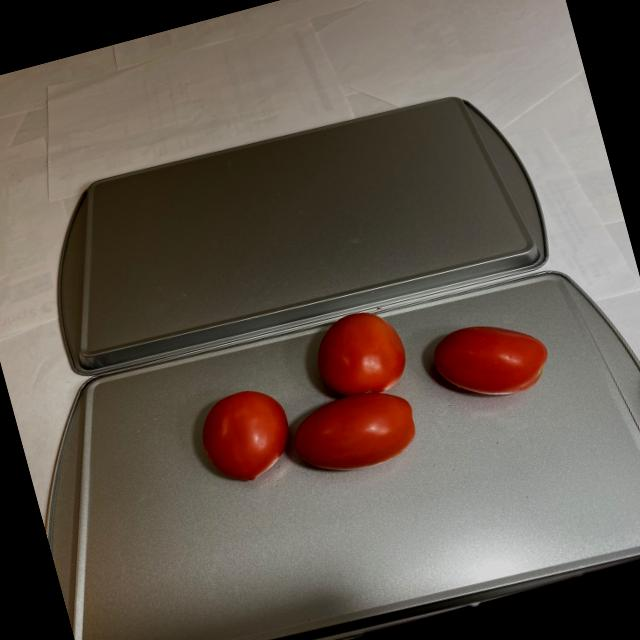tomato: (175, 268, 567, 508)
